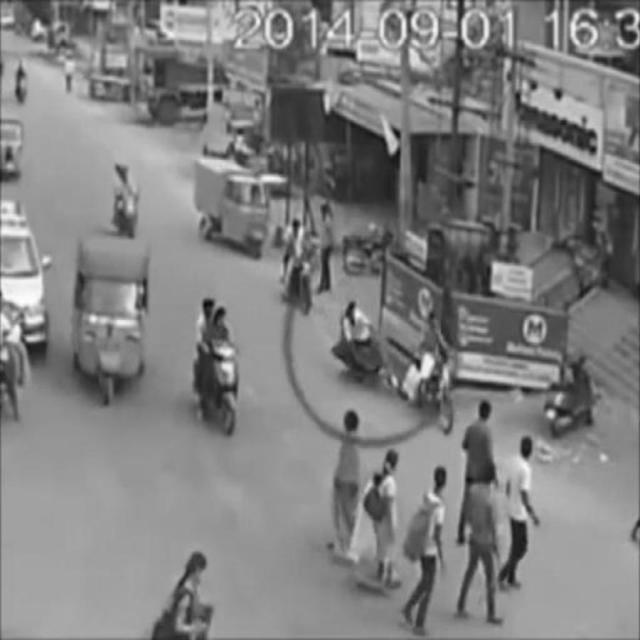accident: (333, 300, 459, 432)
person: (407, 462, 445, 638), (464, 460, 502, 618), (333, 405, 363, 553), (371, 452, 401, 598)
vehicle: (76, 233, 147, 401), (195, 161, 263, 254), (196, 302, 242, 436), (283, 221, 315, 312)
